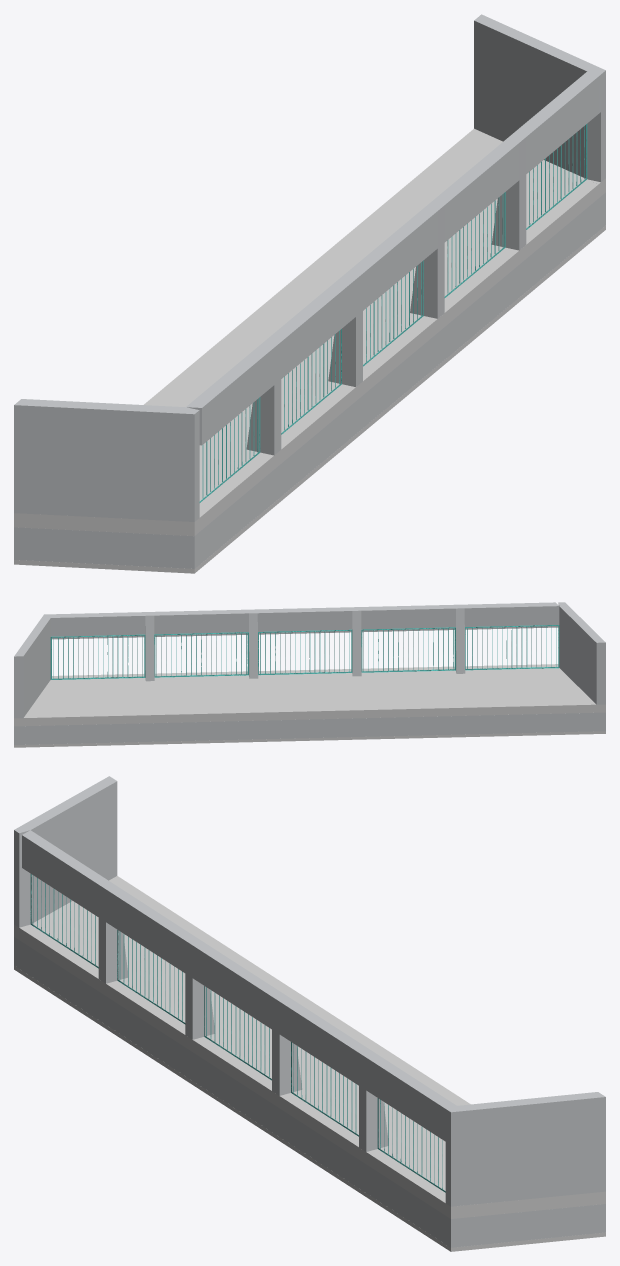
The model's file is 500125-CSSP001-780-XX-MD-ST-000359.glb.
3 renders of one model, top to bottom at view 1: azimuth 30°, elevation 25°; view 2: azimuth 150°, elevation 25°; view 3: azimuth 270°, elevation 25°, orthographic. The views are drawn at different scales.
Parts seen in each view (by area): view 1: 500125-CSSP001-780-XX-MD-ST-000359#CAN001, 500125-CSSP001-780-XX-MD-ST-000359#OTR001, 500125-CSSP001-780-XX-MD-ST-000359#SUM001; view 2: 500125-CSSP001-780-XX-MD-ST-000359#CAN001, 500125-CSSP001-780-XX-MD-ST-000359#OTR001, 500125-CSSP001-780-XX-MD-ST-000359#SUM001; view 3: 500125-CSSP001-780-XX-MD-ST-000359#CAN001, 500125-CSSP001-780-XX-MD-ST-000359#OTR001, 500125-CSSP001-780-XX-MD-ST-000359#SUM001.
Part boxes in pixels (x1,y1,x2,y2): 500125-CSSP001-780-XX-MD-ST-000359#CAN001: (14,14,605,568); 500125-CSSP001-780-XX-MD-ST-000359#OTR001: (14,128,605,573); 500125-CSSP001-780-XX-MD-ST-000359#SUM001: (199,124,587,502); 500125-CSSP001-780-XX-MD-ST-000359#CAN001: (14,602,605,744); 500125-CSSP001-780-XX-MD-ST-000359#OTR001: (14,664,605,747); 500125-CSSP001-780-XX-MD-ST-000359#SUM001: (50,625,559,679); 500125-CSSP001-780-XX-MD-ST-000359#CAN001: (14,776,605,1247); 500125-CSSP001-780-XX-MD-ST-000359#OTR001: (14,876,605,1251); 500125-CSSP001-780-XX-MD-ST-000359#SUM001: (30,874,445,1192).
Bounding box in the file's own units: 17.56 × 3.4 × 13.07.
